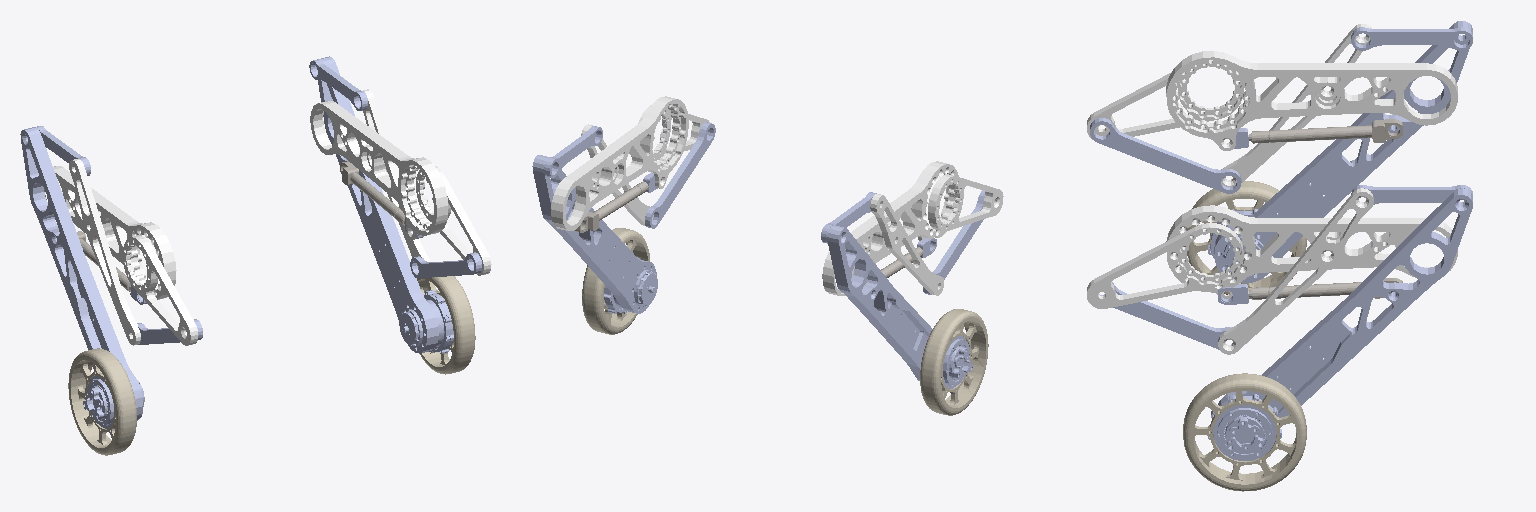
The robot description file, URDF, robot "urdf_v5.0":
<?xml version="1.0" encoding="utf-8"?>
<!-- This URDF was automatically created by SolidWorks to URDF Exporter! Originally created by Stephen Brawner (brawner@gmail.com) 
     Commit Version: 1.6.0-4-g7f85cfe  Build Version: 1.6.7995.38578
     For more information, please see http://wiki.ros.org/sw_urdf_exporter -->
<robot
  name="urdf_v5.0">
  <link
    name="base_link">
    <inertial>
      <origin
        xyz="0.00028751 0.0091751 -0.049915"
        rpy="0 0 0" />
      <mass
        value="11.62" />
      <inertia
        ixx="0.126"
        ixy="0.000264"
        ixz="-0.00049"
        iyy="0.178"
        iyz="0.00412"
        izz="0.25526" />
    </inertial>
    <visual>
      <origin
        xyz="0 0 0"
        rpy="0 0 0" />
      <geometry>
        <mesh
          filename="package://urdf_v5.0/meshes/base_link.STL" />
      </geometry>
      <material
        name="">
        <color
          rgba="0.79216 0.81961 0.93333 1" />
      </material>
    </visual>
    <collision>
      <origin
        xyz="0 0 0"
        rpy="0 0 0" />
      <geometry>
        <mesh
          filename="package://urdf_v5.0/meshes/base_link.STL" />
      </geometry>
    </collision>
  </link>
  <link
    name="L_link1">
    <inertial>
      <origin
        xyz="0.095035 0.0033671 -0.0074867"
        rpy="0 0 0" />
      <mass
        value="0.161" />
      <inertia
        ixx="7.8E-05"
        ixy="2.2E-05"
        ixz="0"
        iyy="0.000945"
        iyz="0"
        izz="0.001" />
    </inertial>
    <visual>
      <origin
        xyz="0 0 0"
        rpy="0 0 0" />
      <geometry>
        <mesh
          filename="package://urdf_v5.0/meshes/L_link1.STL" />
      </geometry>
      <material
        name="">
        <color
          rgba="1 1 1 1" />
      </material>
    </visual>
    <collision>
      <origin
        xyz="0 0 0"
        rpy="0 0 0" />
      <geometry>
        <mesh
          filename="package://urdf_v5.0/meshes/L_link1.STL" />
      </geometry>
    </collision>
  </link>
  <joint
    name="L_joint1"
    type="continuous">
    <origin
      xyz="0.1838 0 -0.00083697"
      rpy="1.5754 0 1.5708" />
    <parent
      link="base_link" />
    <child
      link="L_link1" />
    <axis
      xyz="0 0 -1" />
    <limit
      lower="-3.14"
      upper="3.14"
      effort="100"
      velocity="1" />
  </joint>
  <link
    name="L_link2">
    <inertial>
      <origin
        xyz="0.15963 8.3417E-05 0.011927"
        rpy="0 0 0" />
      <mass
        value="0.45" />
      <inertia
        ixx="0.000167"
        ixy="8.4E-05"
        ixz="0.000191"
        iyy="0.0049"
        iyz="0"
        izz="0.00496" />
    </inertial>
    <visual>
      <origin
        xyz="0 0 0"
        rpy="0 0 0" />
      <geometry>
        <mesh
          filename="package://urdf_v5.0/meshes/L_link2.STL" />
      </geometry>
      <material
        name="">
        <color
          rgba="0.79216 0.81961 0.93333 1" />
      </material>
    </visual>
    <collision>
      <origin
        xyz="0 0 0"
        rpy="0 0 0" />
      <geometry>
        <mesh
          filename="package://urdf_v5.0/meshes/L_link2.STL" />
      </geometry>
    </collision>
  </link>
  <joint
    name="L_joint2"
    type="continuous">
    <origin
      xyz="0.21 0 0"
      rpy="0 0 -2.3573" />
    <parent
      link="L_link1" />
    <child
      link="L_link2" />
    <axis
      xyz="0 0 1" />
    <limit
      lower="-3.14"
      upper="3.14"
      effort="100"
      velocity="1" />
  </joint>
  <link
    name="L_link3">
    <inertial>
      <origin
        xyz="8.3267E-17 -1.3878E-17 0.020472"
        rpy="0 0 0" />
      <mass
        value="0.2" />
      <inertia
        ixx="0.000296"
        ixy="0"
        ixz="0"
        iyy="0.000296"
        iyz="0"
        izz="0.000575" />
    </inertial>
    <visual>
      <origin
        xyz="0 0 0"
        rpy="0 0 0" />
      <geometry>
        <mesh
          filename="package://urdf_v5.0/meshes/L_link3.STL" />
      </geometry>
      <material
        name="">
        <color
          rgba="0.84314 0.81569 0.75294 1" />
      </material>
    </visual>
    <collision>
      <origin
        xyz="0 0 0"
        rpy="0 0 0" />
      <geometry>
        <mesh
          filename="package://urdf_v5.0/meshes/L_link3.STL" />
      </geometry>
    </collision>
  </link>
  <joint
    name="L_joint3"
    type="continuous">
    <origin
      xyz="0.25 0 0.015"
      rpy="0 0 -1.5708" />
    <parent
      link="L_link2" />
    <child
      link="L_link3" />
    <axis
      xyz="0 0 1" />
    <limit
      lower="-3.14"
      upper="3.14"
      effort="100"
      velocity="1" />
  </joint>
  <link
    name="LLL_link2">
    <inertial>
      <origin
        xyz="0.070864 -1.5266E-16 -0.0035025"
        rpy="0 0 0" />
      <mass
        value="0.057" />
      <inertia
        ixx="1E-06"
        ixy="0"
        ixz="0"
        iyy="9.7E-05"
        iyz="0"
        izz="9.7E-05" />
    </inertial>
    <visual>
      <origin
        xyz="0 0 0"
        rpy="0 0 0" />
      <geometry>
        <mesh
          filename="package://urdf_v5.0/meshes/LLL_link2.STL" />
      </geometry>
      <material
        name="">
        <color
          rgba="0.77647 0.75686 0.73725 1" />
      </material>
    </visual>
    <collision>
      <origin
        xyz="0 0 0"
        rpy="0 0 0" />
      <geometry>
        <mesh
          filename="package://urdf_v5.0/meshes/LLL_link2.STL" />
      </geometry>
    </collision>
  </link>
  <joint
    name="LLL_joint2"
    type="continuous">
    <origin
      xyz="0.050754 0.005 -0.002"
      rpy="0 0 -0.72772" />
    <parent
      link="L_link2" />
    <child
      link="LLL_link2" />
    <axis
      xyz="0 0 -1" />
    <limit
      lower="-3.14"
      upper="3.14"
      effort="100"
      velocity="1" />
  </joint>
  <link
    name="LLL_link1">
    <inertial>
      <origin
        xyz="0.049165 0 -0.0035738"
        rpy="0 0 0" />
      <mass
        value="0.035" />
      <inertia
        ixx="1E-06"
        ixy="0"
        ixz="0"
        iyy="3E-05"
        iyz="0"
        izz="3E-05" />
    </inertial>
    <visual>
      <origin
        xyz="0 0 0"
        rpy="0 0 0" />
      <geometry>
        <mesh
          filename="package://urdf_v5.0/meshes/LLL_link1.STL" />
      </geometry>
      <material
        name="">
        <color
          rgba="0.79216 0.81961 0.93333 1" />
      </material>
    </visual>
    <collision>
      <origin
        xyz="0 0 0"
        rpy="0 0 0" />
      <geometry>
        <mesh
          filename="package://urdf_v5.0/meshes/LLL_link1.STL" />
      </geometry>
    </collision>
  </link>
  <joint
    name="LLL_jointt1"
    type="continuous">
    <origin
      xyz="0.01559 -0.048559 -0.002"
      rpy="0 0 0.056547" />
    <parent
      link="L_link1" />
    <child
      link="LLL_link1" />
    <axis
      xyz="0 0 -1" />
    <limit
      lower="-3.14"
      upper="3.14"
      effort="100"
      velocity="1" />
  </joint>
  <link
    name="R_link1">
    <inertial>
      <origin
        xyz="0.095035 0.0033671 0.0074867"
        rpy="0 0 0" />
      <mass
        value="0.161" />
      <inertia
        ixx="7.8E-05"
        ixy="2.2E-05"
        ixz="0"
        iyy="0.000945"
        iyz="0"
        izz="0.001" />
    </inertial>
    <visual>
      <origin
        xyz="0 0 0"
        rpy="0 0 0" />
      <geometry>
        <mesh
          filename="package://urdf_v5.0/meshes/R_link1.STL" />
      </geometry>
      <material
        name="">
        <color
          rgba="1 1 1 1" />
      </material>
    </visual>
    <collision>
      <origin
        xyz="0 0 0"
        rpy="0 0 0" />
      <geometry>
        <mesh
          filename="package://urdf_v5.0/meshes/R_link1.STL" />
      </geometry>
    </collision>
  </link>
  <joint
    name="R_joint1"
    type="continuous">
    <origin
      xyz="-0.1828 0 0.00083241"
      rpy="1.5754 0 1.5708" />
    <parent
      link="base_link" />
    <child
      link="R_link1" />
    <axis
      xyz="0 0 1" />
    <limit
      lower="-3.14"
      upper="3.14"
      effort="100"
      velocity="1" />
  </joint>
  <link
    name="R_link2">
    <inertial>
      <origin
        xyz="0.15963 8.3412E-05 -0.011927"
        rpy="0 0 0" />
      <mass
        value="0.45" />
      <inertia
        ixx="0.000167"
        ixy="8.4E-05"
        ixz="-0.000191"
        iyy="0.0049"
        iyz="0"
        izz="0.00496" />
    </inertial>
    <visual>
      <origin
        xyz="0 0 0"
        rpy="0 0 0" />
      <geometry>
        <mesh
          filename="package://urdf_v5.0/meshes/R_link2.STL" />
      </geometry>
      <material
        name="">
        <color
          rgba="0.79216 0.81961 0.93333 1" />
      </material>
    </visual>
    <collision>
      <origin
        xyz="0 0 0"
        rpy="0 0 0" />
      <geometry>
        <mesh
          filename="package://urdf_v5.0/meshes/R_link2.STL" />
      </geometry>
    </collision>
  </link>
  <joint
    name="R_jonit2"
    type="continuous">
    <origin
      xyz="0.21 0 0"
      rpy="0 0 -2.3573" />
    <parent
      link="R_link1" />
    <child
      link="R_link2" />
    <axis
      xyz="0 0 -1" />
    <limit
      lower="-3.14"
      upper="3.14"
      effort="100"
      velocity="1" />
  </joint>
  <link
    name="R_link3">
    <inertial>
      <origin
        xyz="1.3878E-17 1.3878E-17 -0.020472"
        rpy="0 0 0" />
      <mass
        value="0.2" />
      <inertia
        ixx="0.000296"
        ixy="0"
        ixz="0"
        iyy="0.000296"
        iyz="0"
        izz="0.000575" />
    </inertial>
    <visual>
      <origin
        xyz="0 0 0"
        rpy="0 0 0" />
      <geometry>
        <mesh
          filename="package://urdf_v5.0/meshes/R_link3.STL" />
      </geometry>
      <material
        name="">
        <color
          rgba="0.84314 0.81569 0.75294 1" />
      </material>
    </visual>
    <collision>
      <origin
        xyz="0 0 0"
        rpy="0 0 0" />
      <geometry>
        <mesh
          filename="package://urdf_v5.0/meshes/R_link3.STL" />
      </geometry>
    </collision>
  </link>
  <joint
    name="R_joint3"
    type="continuous">
    <origin
      xyz="0.25 0 -0.015"
      rpy="0 0 -3.1416" />
    <parent
      link="R_link2" />
    <child
      link="R_link3" />
    <axis
      xyz="0 0 -1" />
    <limit
      lower="-3.14"
      upper="3.14"
      effort="100"
      velocity="1" />
  </joint>
  <link
    name="RRR_link2">
    <inertial>
      <origin
        xyz="0.070864 4.8572E-17 0.0035025"
        rpy="0 0 0" />
      <mass
        value="0.057" />
      <inertia
        ixx="1E-06"
        ixy="0"
        ixz="0"
        iyy="9.7E-05"
        iyz="0"
        izz="9.7E-05" />
    </inertial>
    <visual>
      <origin
        xyz="0 0 0"
        rpy="0 0 0" />
      <geometry>
        <mesh
          filename="package://urdf_v5.0/meshes/RRR_link2.STL" />
      </geometry>
      <material
        name="">
        <color
          rgba="0.77647 0.75686 0.73725 1" />
      </material>
    </visual>
    <collision>
      <origin
        xyz="0 0 0"
        rpy="0 0 0" />
      <geometry>
        <mesh
          filename="package://urdf_v5.0/meshes/RRR_link2.STL" />
      </geometry>
    </collision>
  </link>
  <joint
    name="RRR_joint2"
    type="continuous">
    <origin
      xyz="0.050754 0.005 0.002"
      rpy="0 0 -0.72772" />
    <parent
      link="R_link2" />
    <child
      link="RRR_link2" />
    <axis
      xyz="0 0 1" />
    <limit
      lower="-3.14"
      upper="3.14"
      effort="100"
      velocity="1" />
  </joint>
  <link
    name="RRR_link1">
    <inertial>
      <origin
        xyz="0.049165 0 0.0035738"
        rpy="0 0 0" />
      <mass
        value="0.035" />
      <inertia
        ixx="1E-06"
        ixy="0"
        ixz="0"
        iyy="3E-05"
        iyz="0"
        izz="3E-05" />
    </inertial>
    <visual>
      <origin
        xyz="0 0 0"
        rpy="0 0 0" />
      <geometry>
        <mesh
          filename="package://urdf_v5.0/meshes/RRR_link1.STL" />
      </geometry>
      <material
        name="">
        <color
          rgba="0.79216 0.81961 0.93333 1" />
      </material>
    </visual>
    <collision>
      <origin
        xyz="0 0 0"
        rpy="0 0 0" />
      <geometry>
        <mesh
          filename="package://urdf_v5.0/meshes/RRR_link1.STL" />
      </geometry>
    </collision>
  </link>
  <joint
    name="RRR_joint1"
    type="continuous">
    <origin
      xyz="0.01559 -0.048559 0.002"
      rpy="0 0 0.056547" />
    <parent
      link="R_link1" />
    <child
      link="RRR_link1" />
    <axis
      xyz="0 0 1" />
    <limit
      lower="-3.14"
      upper="3.14"
      effort="100"
      velocity="1" />
  </joint>
  <link
    name="LL_link1">
    <inertial>
      <origin
        xyz="0.051943 8.3267E-17 -0.0053948"
        rpy="0 0 0" />
      <mass
        value="0.041" />
      <inertia
        ixx="1.4E-05"
        ixy="0"
        ixz="0"
        iyy="9.4E-05"
        iyz="0"
        izz="0.000107" />
    </inertial>
    <visual>
      <origin
        xyz="0 0 0"
        rpy="0 0 0" />
      <geometry>
        <mesh
          filename="package://urdf_v5.0/meshes/LL_link1.STL" />
      </geometry>
      <material
        name="">
        <color
          rgba="1 1 1 1" />
      </material>
    </visual>
    <collision>
      <origin
        xyz="0 0 0"
        rpy="0 0 0" />
      <geometry>
        <mesh
          filename="package://urdf_v5.0/meshes/LL_link1.STL" />
      </geometry>
    </collision>
  </link>
  <joint
    name="LL_joint1"
    type="continuous">
    <origin
      xyz="0.195 0 -0.00088797"
      rpy="-1.5757 0.36976 -1.5726" />
    <parent
      link="base_link" />
    <child
      link="LL_link1" />
    <axis
      xyz="0 0 -1" />
    <limit
      lower="-3.14"
      upper="3.14"
      effort="100"
      velocity="1" />
  </joint>
  <link
    name="LL_link2">
    <inertial>
      <origin
        xyz="0.0675 -0.0031995 -0.014"
        rpy="0 0 0" />
      <mass
        value="0.084" />
      <inertia
        ixx="1E-06"
        ixy="0"
        ixz="0"
        iyy="0.000157"
        iyz="0"
        izz="0.000157" />
    </inertial>
    <visual>
      <origin
        xyz="0 0 0"
        rpy="0 0 0" />
      <geometry>
        <mesh
          filename="package://urdf_v5.0/meshes/LL_link2.STL" />
      </geometry>
      <material
        name="">
        <color
          rgba="0.79216 0.81961 0.93333 1" />
      </material>
    </visual>
    <collision>
      <origin
        xyz="0 0 0"
        rpy="0 0 0" />
      <geometry>
        <mesh
          filename="package://urdf_v5.0/meshes/LL_link2.STL" />
      </geometry>
    </collision>
  </link>
  <joint
    name="LL_joint2"
    type="continuous">
    <origin
      xyz="0.1134 0 0"
      rpy="0 0 2.3573" />
    <parent
      link="LL_link1" />
    <child
      link="LL_link2" />
    <axis
      xyz="0 0 1" />
    <limit
      lower="-3.14"
      upper="3.14"
      effort="100"
      velocity="1" />
  </joint>
  <link
    name="LL_link3">
    <inertial>
      <origin
        xyz="0.098135 -0.0046889 -0.0072398"
        rpy="0 0 0" />
      <mass
        value="0.041" />
      <inertia
        ixx="1E-06"
        ixy="0"
        ixz="0"
        iyy="0.000172"
        iyz="0"
        izz="0.000174" />
    </inertial>
    <visual>
      <origin
        xyz="0 0 0"
        rpy="0 0 0" />
      <geometry>
        <mesh
          filename="package://urdf_v5.0/meshes/LL_link3.STL" />
      </geometry>
      <material
        name="">
        <color
          rgba="1 1 1 1" />
      </material>
    </visual>
    <collision>
      <origin
        xyz="0 0 0"
        rpy="0 0 0" />
      <geometry>
        <mesh
          filename="package://urdf_v5.0/meshes/LL_link3.STL" />
      </geometry>
    </collision>
  </link>
  <joint
    name="LL_joint3"
    type="continuous">
    <origin
      xyz="0.135 0 0"
      rpy="0 0 1.2842" />
    <parent
      link="LL_link2" />
    <child
      link="LL_link3" />
    <axis
      xyz="0 0 1" />
    <limit
      lower="-3.14"
      upper="3.14"
      effort="100"
      velocity="1" />
  </joint>
  <link
    name="LL_link4">
    <inertial>
      <origin
        xyz="0.048484 0.0014867 -0.015201"
        rpy="0 0 0" />
      <mass
        value="0.064" />
      <inertia
        ixx="1E-06"
        ixy="0"
        ixz="0"
        iyy="6.3E-05"
        iyz="0"
        izz="6.4E-05" />
    </inertial>
    <visual>
      <origin
        xyz="0 0 0"
        rpy="0 0 0" />
      <geometry>
        <mesh
          filename="package://urdf_v5.0/meshes/LL_link4.STL" />
      </geometry>
      <material
        name="">
        <color
          rgba="0.79216 0.81961 0.93333 1" />
      </material>
    </visual>
    <collision>
      <origin
        xyz="0 0 0"
        rpy="0 0 0" />
      <geometry>
        <mesh
          filename="package://urdf_v5.0/meshes/LL_link4.STL" />
      </geometry>
    </collision>
  </link>
  <joint
    name="LL_link4"
    type="continuous">
    <origin
      xyz="0.20051 0 0"
      rpy="0 0 -0.86973" />
    <parent
      link="LL_link3" />
    <child
      link="LL_link4" />
    <axis
      xyz="0 0 1" />
    <limit
      lower="-3.14"
      upper="3.14"
      effort="100"
      velocity="1" />
  </joint>
  <link
    name="RR_link1">
    <inertial>
      <origin
        xyz="0.051943 3.4694E-17 0.0046052"
        rpy="0 0 0" />
      <mass
        value="0.041" />
      <inertia
        ixx="1.4E-05"
        ixy="0"
        ixz="0"
        iyy="9.4E-05"
        iyz="0"
        izz="0.000107" />
    </inertial>
    <visual>
      <origin
        xyz="0 0 0"
        rpy="0 0 0" />
      <geometry>
        <mesh
          filename="package://urdf_v5.0/meshes/RR_link1.STL" />
      </geometry>
      <material
        name="">
        <color
          rgba="1 1 1 1" />
      </material>
    </visual>
    <collision>
      <origin
        xyz="0 0 0"
        rpy="0 0 0" />
      <geometry>
        <mesh
          filename="package://urdf_v5.0/meshes/RR_link1.STL" />
      </geometry>
    </collision>
  </link>
  <joint
    name="RR_joint1"
    type="continuous">
    <origin
      xyz="-0.194 0 0.00088342"
      rpy="-1.5757 0.36976 -1.5726" />
    <parent
      link="base_link" />
    <child
      link="RR_link1" />
    <axis
      xyz="0 0 1" />
    <limit
      lower="-3.14"
      upper="3.14"
      effort="100"
      velocity="1" />
  </joint>
  <link
    name="RR_link2">
    <inertial>
      <origin
        xyz="0.0675 -0.0031995 0.014"
        rpy="0 0 0" />
      <mass
        value="0.084" />
      <inertia
        ixx="1E-06"
        ixy="0"
        ixz="0"
        iyy="0.000157"
        iyz="0"
        izz="0.000157" />
    </inertial>
    <visual>
      <origin
        xyz="0 0 0"
        rpy="0 0 0" />
      <geometry>
        <mesh
          filename="package://urdf_v5.0/meshes/RR_link2.STL" />
      </geometry>
      <material
        name="">
        <color
          rgba="0.79216 0.81961 0.93333 1" />
      </material>
    </visual>
    <collision>
      <origin
        xyz="0 0 0"
        rpy="0 0 0" />
      <geometry>
        <mesh
          filename="package://urdf_v5.0/meshes/RR_link2.STL" />
      </geometry>
    </collision>
  </link>
  <joint
    name="RR_joint2"
    type="continuous">
    <origin
      xyz="0.1134 0 0"
      rpy="0 0 2.3573" />
    <parent
      link="RR_link1" />
    <child
      link="RR_link2" />
    <axis
      xyz="0 0 1" />
    <limit
      lower="-3.14"
      upper="3.14"
      effort="100"
      velocity="1" />
  </joint>
  <link
    name="RR_link3">
    <inertial>
      <origin
        xyz="0.098135 -0.0046889 0.0071602"
        rpy="0 0 0" />
      <mass
        value="0.041" />
      <inertia
        ixx="1E-06"
        ixy="0"
        ixz="0"
        iyy="0.000171"
        iyz="0"
        izz="0.000174" />
    </inertial>
    <visual>
      <origin
        xyz="0 0 0"
        rpy="0 0 0" />
      <geometry>
        <mesh
          filename="package://urdf_v5.0/meshes/RR_link3.STL" />
      </geometry>
      <material
        name="">
        <color
          rgba="1 1 1 1" />
      </material>
    </visual>
    <collision>
      <origin
        xyz="0 0 0"
        rpy="0 0 0" />
      <geometry>
        <mesh
          filename="package://urdf_v5.0/meshes/RR_link3.STL" />
      </geometry>
    </collision>
  </link>
  <joint
    name="RR_joint3"
    type="continuous">
    <origin
      xyz="0.135 0 0"
      rpy="0 0 1.2842" />
    <parent
      link="RR_link2" />
    <child
      link="RR_link3" />
    <axis
      xyz="0 0 1" />
    <limit
      lower="-3.14"
      upper="3.14"
      effort="100"
      velocity="1" />
  </joint>
  <link
    name="RR_link4">
    <inertial>
      <origin
        xyz="0.048484 0.0014867 0.015199"
        rpy="0 0 0" />
      <mass
        value="0.064" />
      <inertia
        ixx="1E-06"
        ixy="0"
        ixz="0"
        iyy="6.3E-05"
        iyz="0"
        izz="6.4E-05" />
    </inertial>
    <visual>
      <origin
        xyz="0 0 0"
        rpy="0 0 0" />
      <geometry>
        <mesh
          filename="package://urdf_v5.0/meshes/RR_link4.STL" />
      </geometry>
      <material
        name="">
        <color
          rgba="0.79216 0.81961 0.93333 1" />
      </material>
    </visual>
    <collision>
      <origin
        xyz="0 0 0"
        rpy="0 0 0" />
      <geometry>
        <mesh
          filename="package://urdf_v5.0/meshes/RR_link4.STL" />
      </geometry>
    </collision>
  </link>
  <joint
    name="RR_joint4"
    type="continuous">
    <origin
      xyz="0.20051 0 0"
      rpy="0 0 -0.86973" />
    <parent
      link="RR_link3" />
    <child
      link="RR_link4" />
    <axis
      xyz="0 0 1" />
    <limit
      lower="-3.14"
      upper="3.14"
      effort="100"
      velocity="1" />
  </joint>
</robot>

--- Facts derived from the render (not from the file) ---
The picture shows the robot from 3 angles, left to right: view 1: azimuth 30°, elevation 25°; view 2: azimuth 150°, elevation 25°; view 3: azimuth 270°, elevation 25°; orthographic projection.
Model urdf_v5.0 with 19 links and 18 joints (18 continuous), rooted at base_link, posed every joint at zero.
Visible links, largest first — view 1: R_link2, L_link2, L_link1, R_link3, R_link1, RR_link3, L_link3, RR_link1, LL_link1, LL_link2, LL_link4, LLL_link2 (+3 smaller); view 2: R_link2, L_link1, L_link2, R_link3, R_link1, L_link3, RR_link1, RR_link3, LL_link2, LL_link4, RR_link2, LLL_link2 (+3 smaller); view 3: L_link2, R_link1, R_link2, L_link1, L_link3, LL_link1, LL_link3, RR_link1, RR_link2, R_link3, RR_link3, RRR_link2 (+4 smaller).
Boxes of the visible links, left/top/right/bottom form: R_link2: left=20, top=127, right=144, bottom=428; L_link2: left=318, top=56, right=453, bottom=353; L_link1: left=310, top=101, right=447, bottom=239; R_link3: left=68, top=348, right=136, bottom=455; R_link1: left=44, top=166, right=176, bottom=299; RR_link3: left=69, top=159, right=140, bottom=345; L_link3: left=417, top=276, right=475, bottom=374; RR_link1: left=123, top=235, right=197, bottom=345; LL_link1: left=416, top=166, right=491, bottom=275; LL_link2: left=410, top=252, right=481, bottom=277; LL_link4: left=309, top=59, right=367, bottom=110; LLL_link2: left=340, top=161, right=404, bottom=225; R_link2: left=827, top=225, right=972, bottom=388; L_link1: left=551, top=96, right=688, bottom=230; L_link2: left=532, top=155, right=657, bottom=313; R_link3: left=920, top=309, right=988, bottom=415; R_link1: left=822, top=161, right=958, bottom=295; L_link3: left=582, top=228, right=649, bottom=334; RR_link1: left=928, top=174, right=1003, bottom=231; RR_link3: left=870, top=194, right=943, bottom=295; LL_link2: left=645, top=122, right=715, bottom=228; LL_link4: left=544, top=126, right=602, bottom=177; RR_link2: left=923, top=190, right=984, bottom=294; LLL_link2: left=575, top=181, right=648, bottom=232; L_link2: left=1208, top=188, right=1472, bottom=460; R_link1: left=1166, top=51, right=1457, bottom=150; R_link2: left=1208, top=21, right=1472, bottom=282; L_link1: left=1166, top=205, right=1457, bottom=298; L_link3: left=1183, top=373, right=1306, bottom=491; LL_link1: left=1087, top=223, right=1243, bottom=308; LL_link3: left=1218, top=188, right=1373, bottom=354; RR_link1: left=1087, top=60, right=1243, bottom=139; RR_link2: left=1090, top=118, right=1241, bottom=193; R_link3: left=1183, top=181, right=1306, bottom=298; RR_link3: left=1221, top=24, right=1371, bottom=186; RRR_link2: left=1249, top=119, right=1402, bottom=143.
Bounding box of the posed robot: 0.4674 × 0.3754 × 0.3073 m (x, y, z).
18 mesh visuals loaded from 19 distinct referenced files (18 binary STL); not drawn: 1 (reference not matched to a file when rendering).
